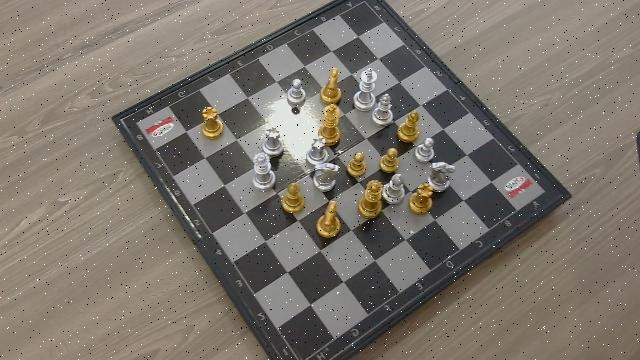black_bishop: (398, 107, 420, 142), (281, 181, 304, 212)
black_king: (322, 105, 341, 143)
black_knight: (308, 200, 349, 239)
black_pawn: (378, 147, 399, 175), (346, 150, 366, 179)
black_queen: (359, 181, 381, 220), (319, 67, 340, 105)
black_rook: (409, 182, 433, 214), (199, 106, 224, 135)
white_bishop: (376, 93, 397, 127)
white_king: (354, 65, 378, 112)
white_knight: (431, 160, 459, 192), (315, 161, 336, 193)
white_pawn: (383, 173, 405, 204), (411, 137, 435, 164), (285, 78, 305, 108)
white_queen: (251, 155, 272, 189)
white_rook: (264, 126, 285, 154)
